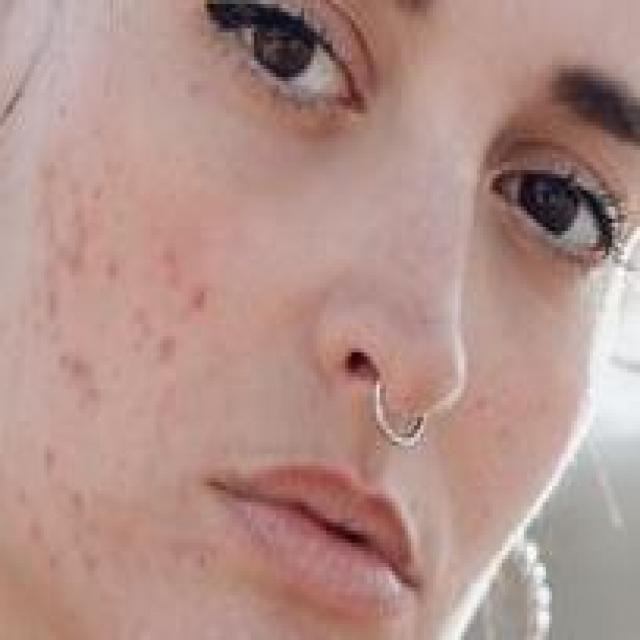blackheads: (54, 352, 98, 401), (38, 255, 62, 320), (66, 486, 91, 515), (157, 336, 176, 369), (185, 73, 204, 97), (191, 283, 204, 308), (107, 255, 119, 276), (44, 445, 53, 470)
